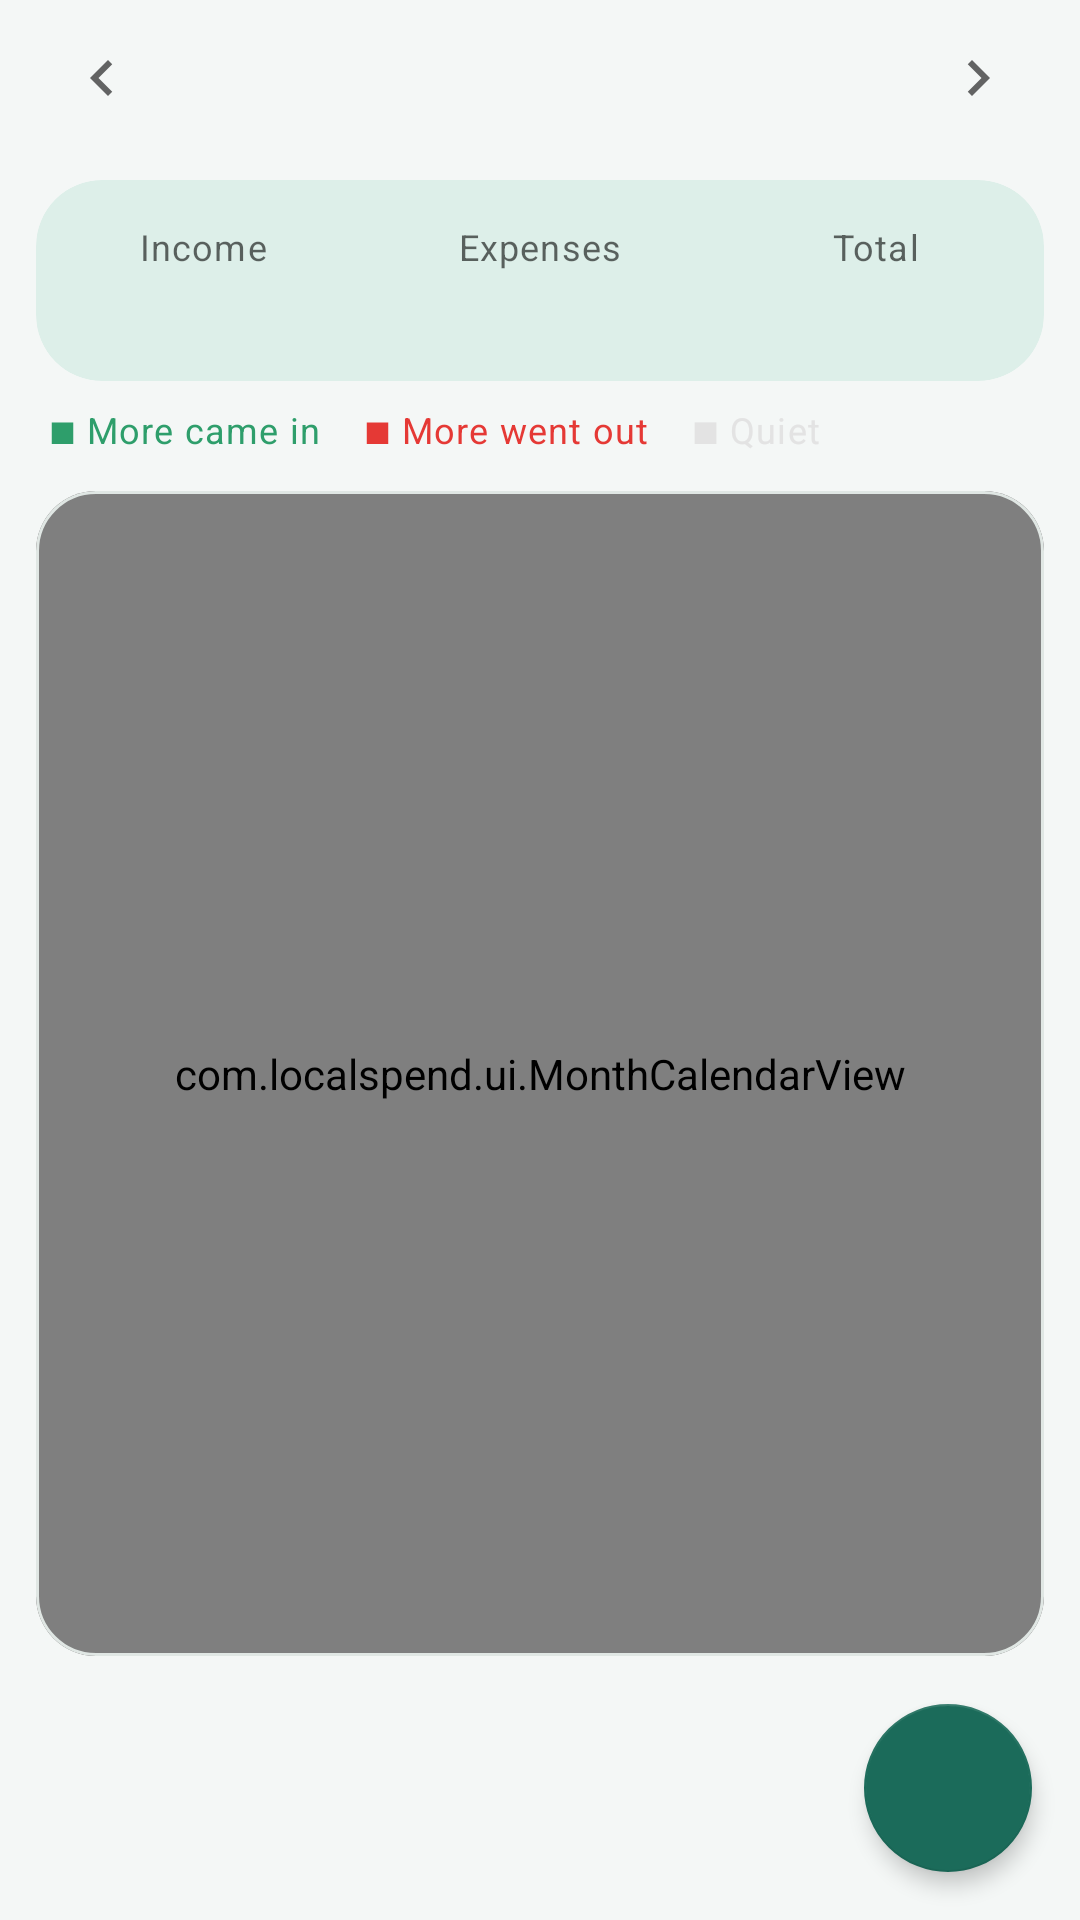

Icon bounding boxes for this 1080*1920 phone screenshot, format (x1, y1, x2, y2):
Next month: (968, 60, 990, 96)
Previous month: (90, 60, 112, 96)
